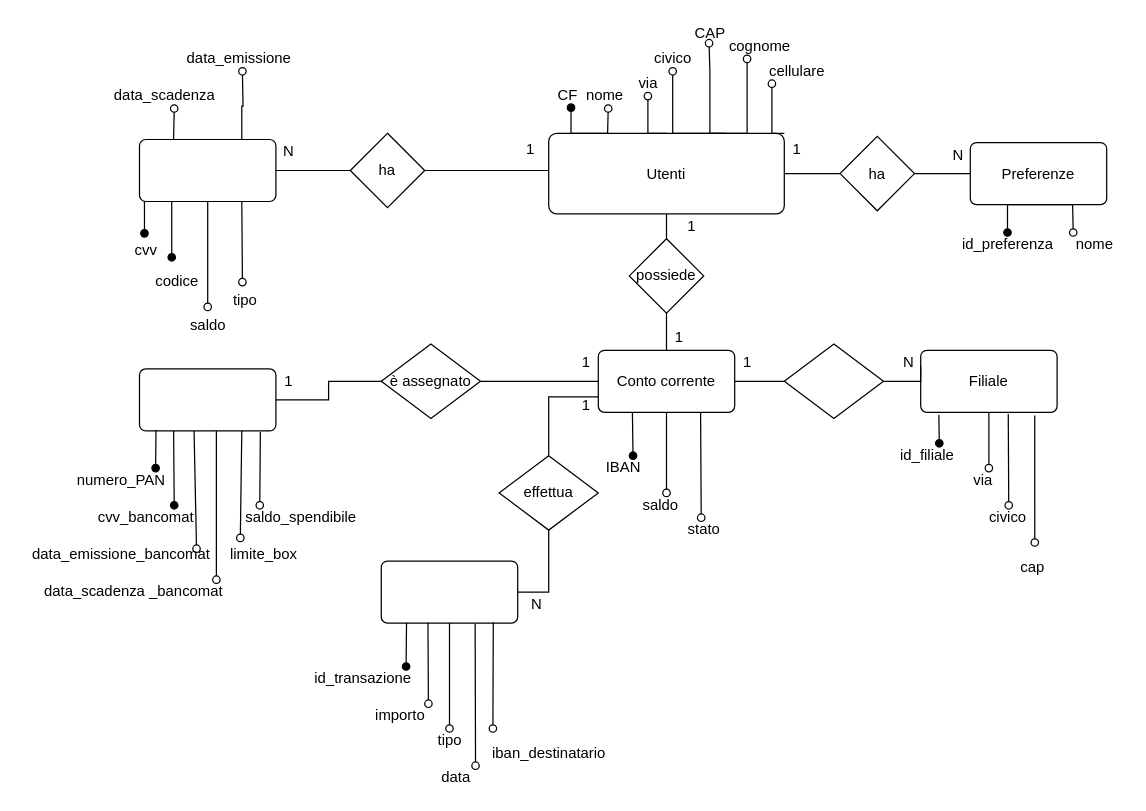
Image size: 1146x811. Some labels were removed from this diagram. Here are the shapes that lost their labels. From the top down, the centre of each, then its label:
point 207,170: Carta prepagata
point 207,399: Bancomat
point 833,380: custodiscono
point 449,591: Transazione
